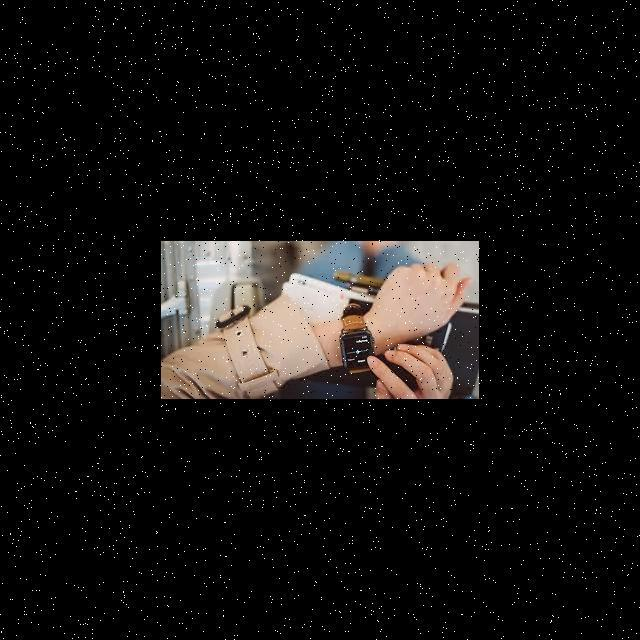watch: (333, 275, 370, 360)
